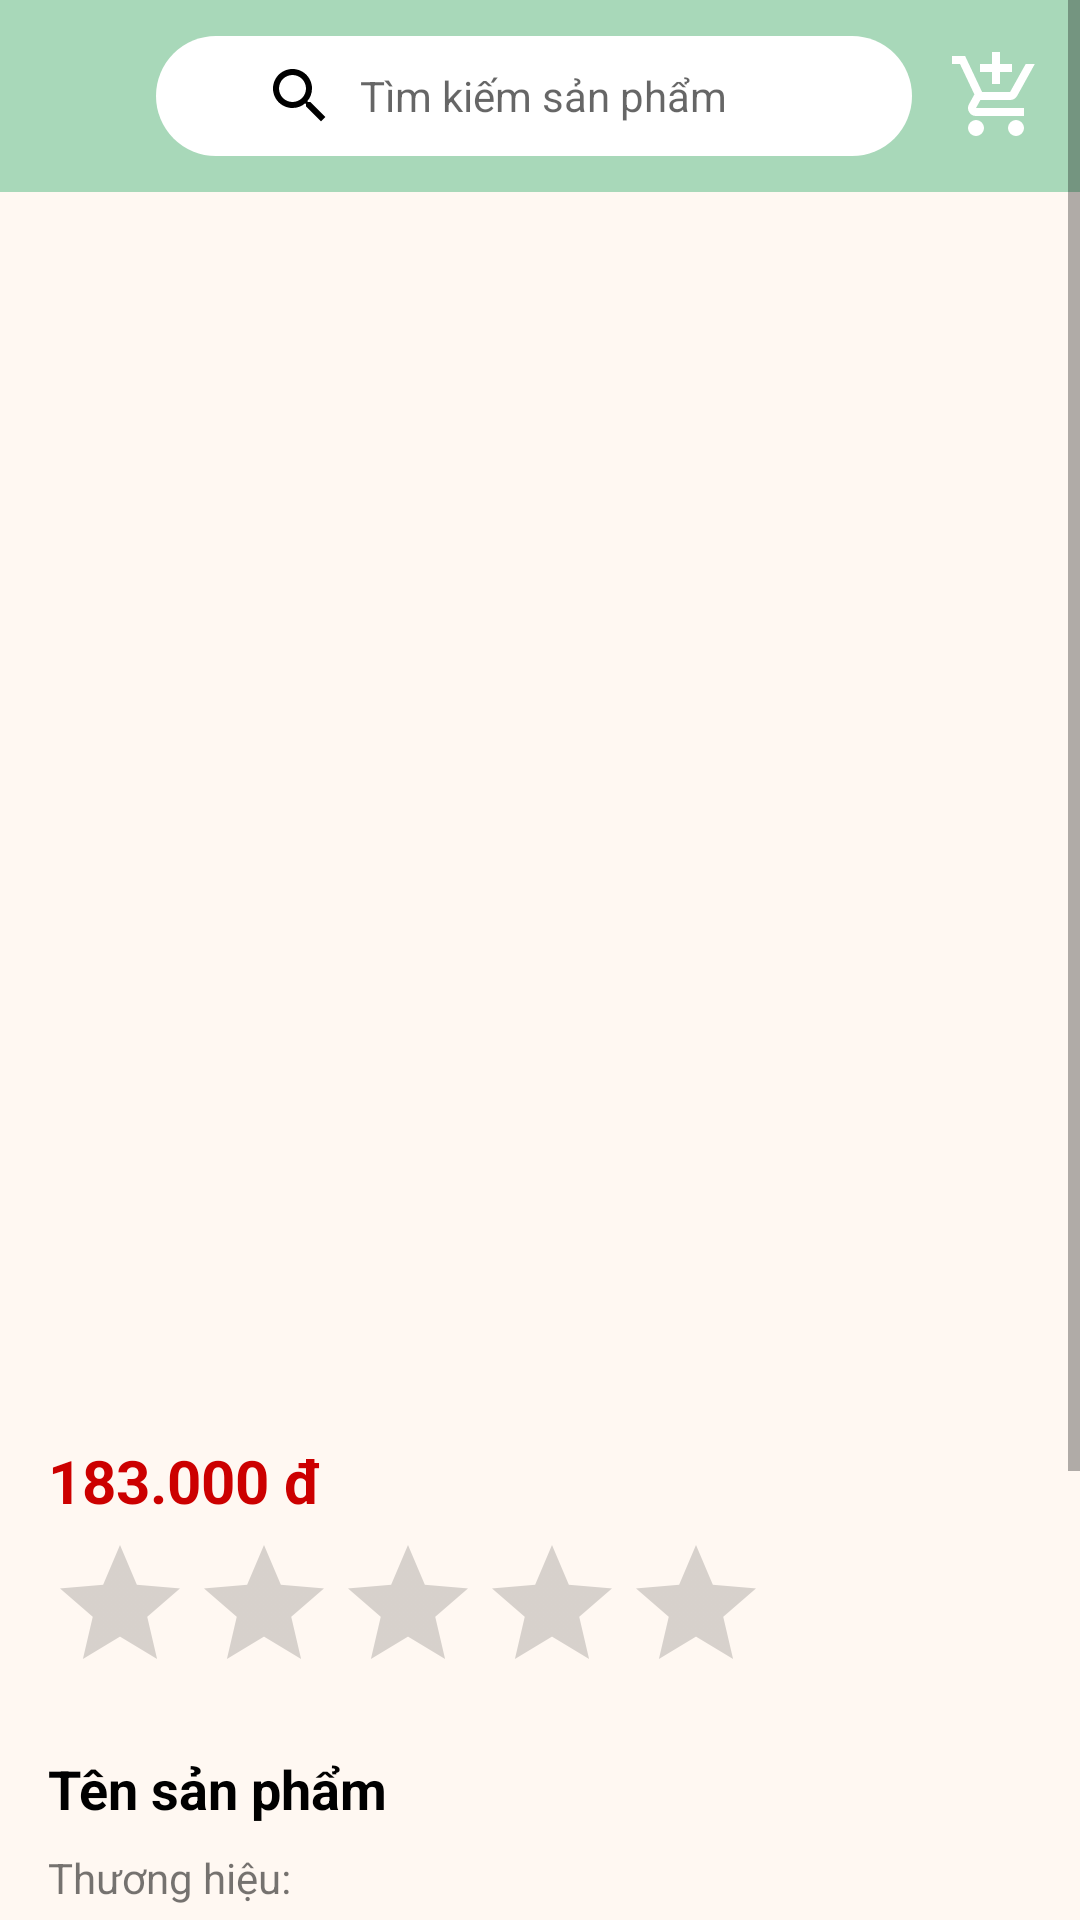

Where icons sit on this 1080x1920 app screen, as [x1,y1,x2,y2]:
Giỏ hàng: [952,52,1035,136]
